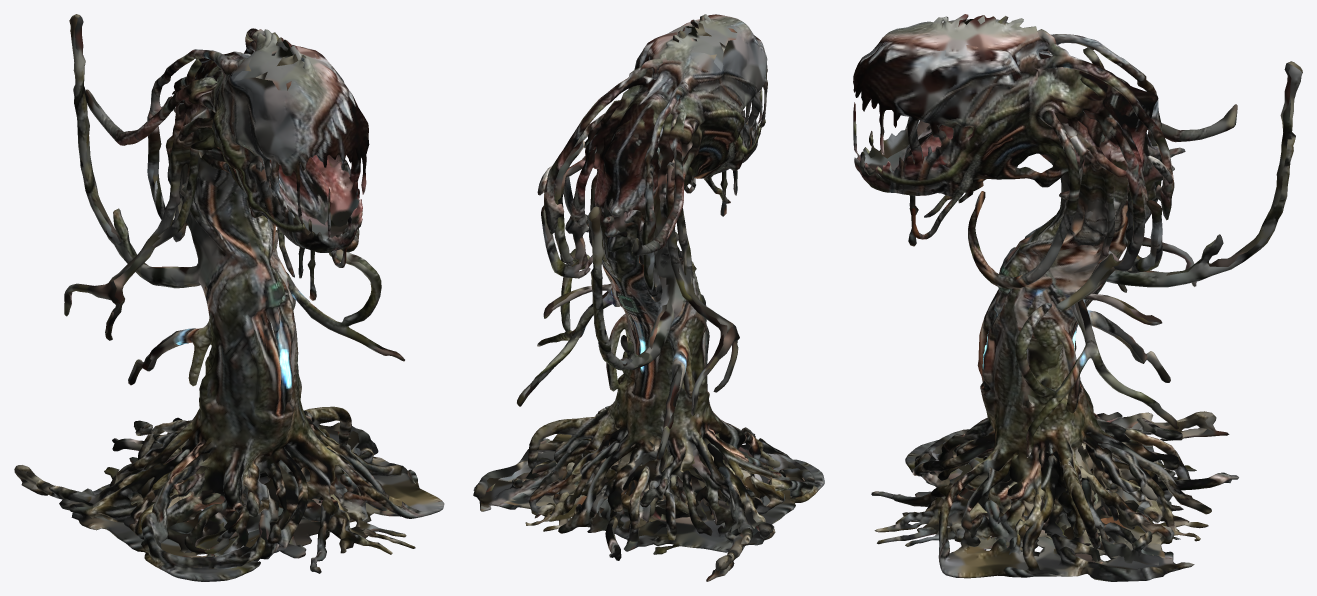
Rendered from carnivorous_maw_plant.glb.
The picture shows the model from 3 angles, left to right: view 1: azimuth 30°, elevation 25°; view 2: azimuth 150°, elevation 25°; view 3: azimuth 270°, elevation 25°; orthographic projection. The views are drawn at different scales.
Visible parts, largest first — view 1: geometry_0; view 2: geometry_0; view 3: geometry_0.
Boxes of the visible parts, left/top/right/bottom form: geometry_0: left=14, top=14, right=444, bottom=581; geometry_0: left=473, top=14, right=824, bottom=581; geometry_0: left=853, top=14, right=1302, bottom=581.
Bounding box in the file's own units: 1.86 × 2.8 × 2.31.
Materials: 1 (1 with a texture image).
